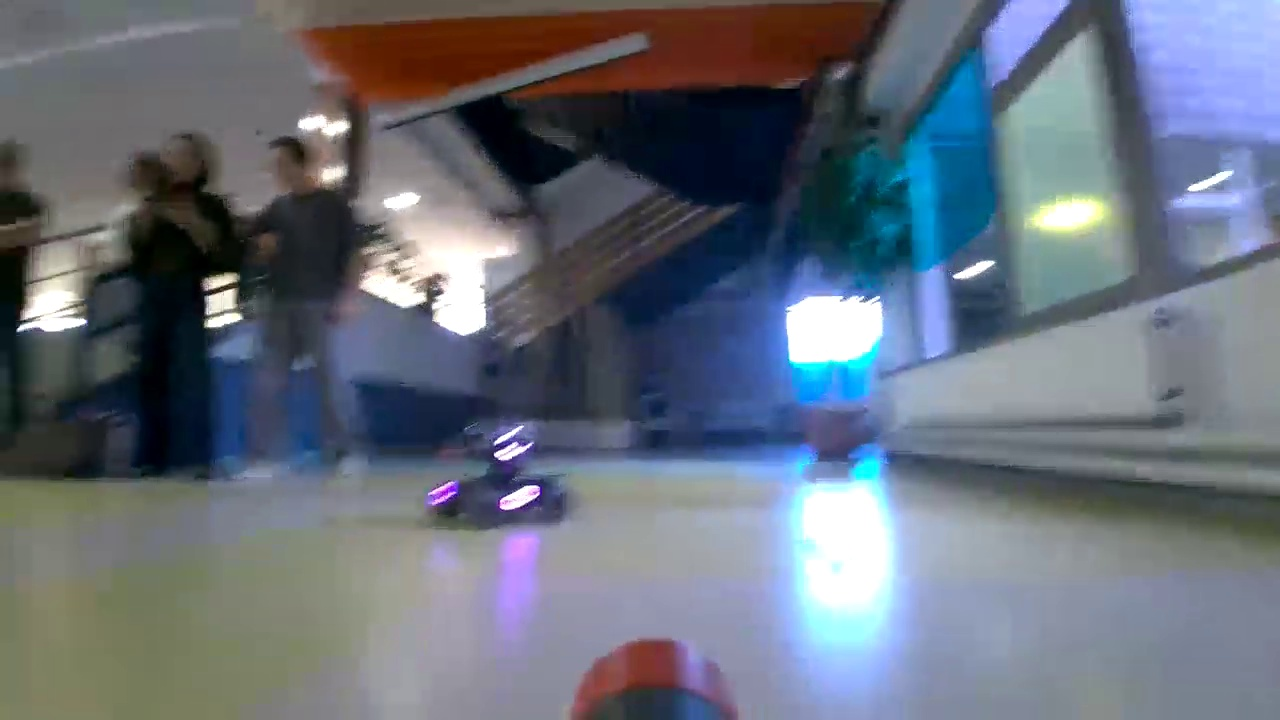robot: (425, 424, 569, 529)
